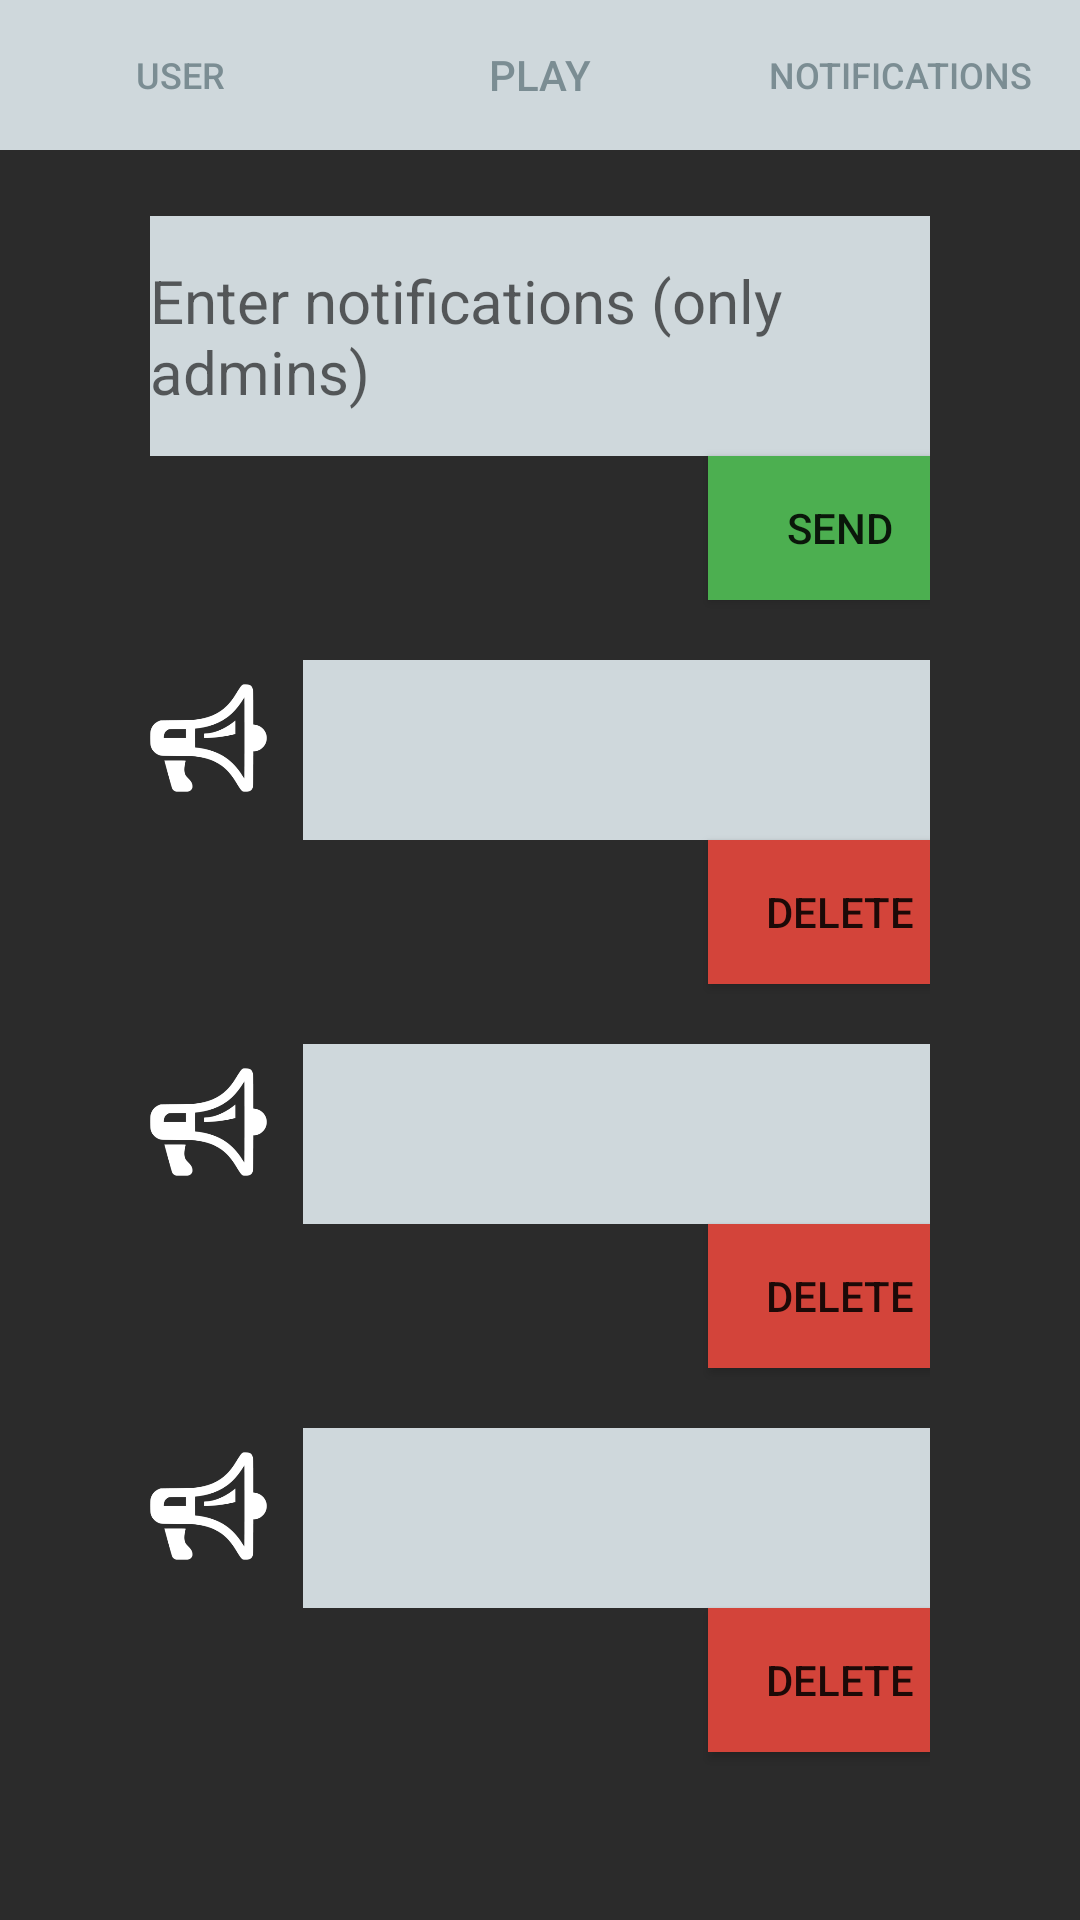

Named icons in this screenshot (1080px×1920px) and their bounding boxes, (x1, y1, x2, y2):
megaphoneicon: (150, 684, 267, 792), (150, 1068, 267, 1176), (150, 1452, 267, 1560)
